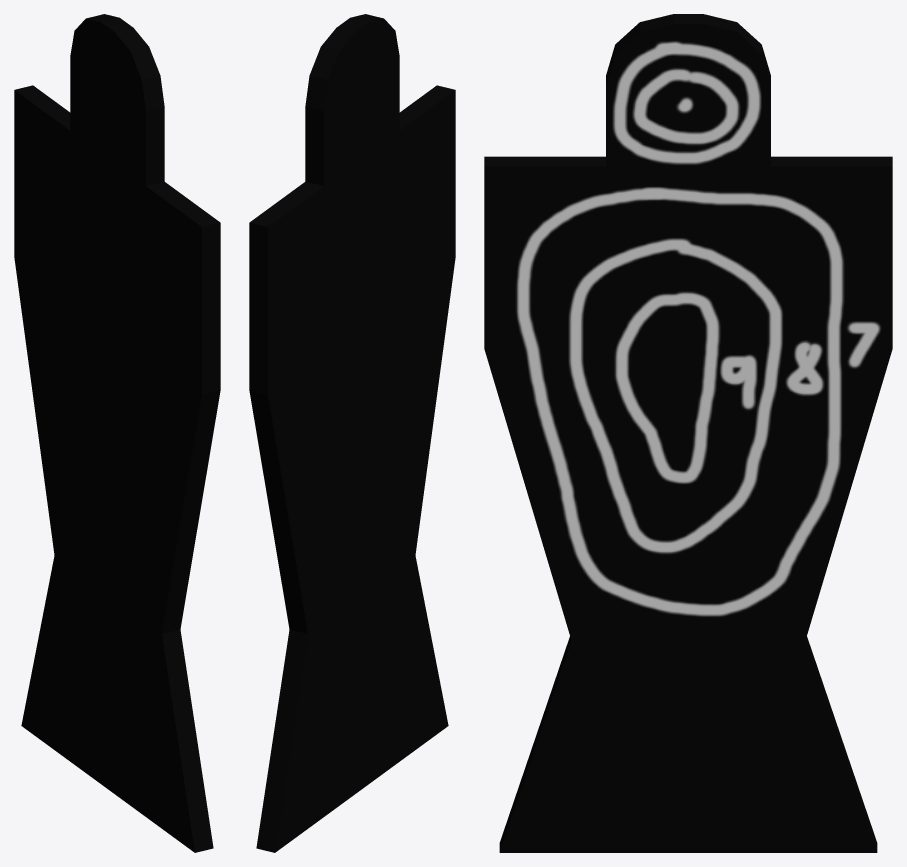
Rendered from target.fbx.
3 views of the same model, side by side, from view 1: azimuth 30°, elevation 25°; view 2: azimuth 150°, elevation 25°; view 3: azimuth 270°, elevation 25° (orthographic). The views are drawn at different scales.
Visible parts, largest first — view 1: Cube; view 2: Cube; view 3: Cube.
Boxes of the visible parts, x1,y1,x2,y2 form: Cube: (14, 14, 220, 852); Cube: (249, 14, 455, 852); Cube: (484, 14, 892, 852).
Bounding box in the file's own units: 20 × 783 × 349.
